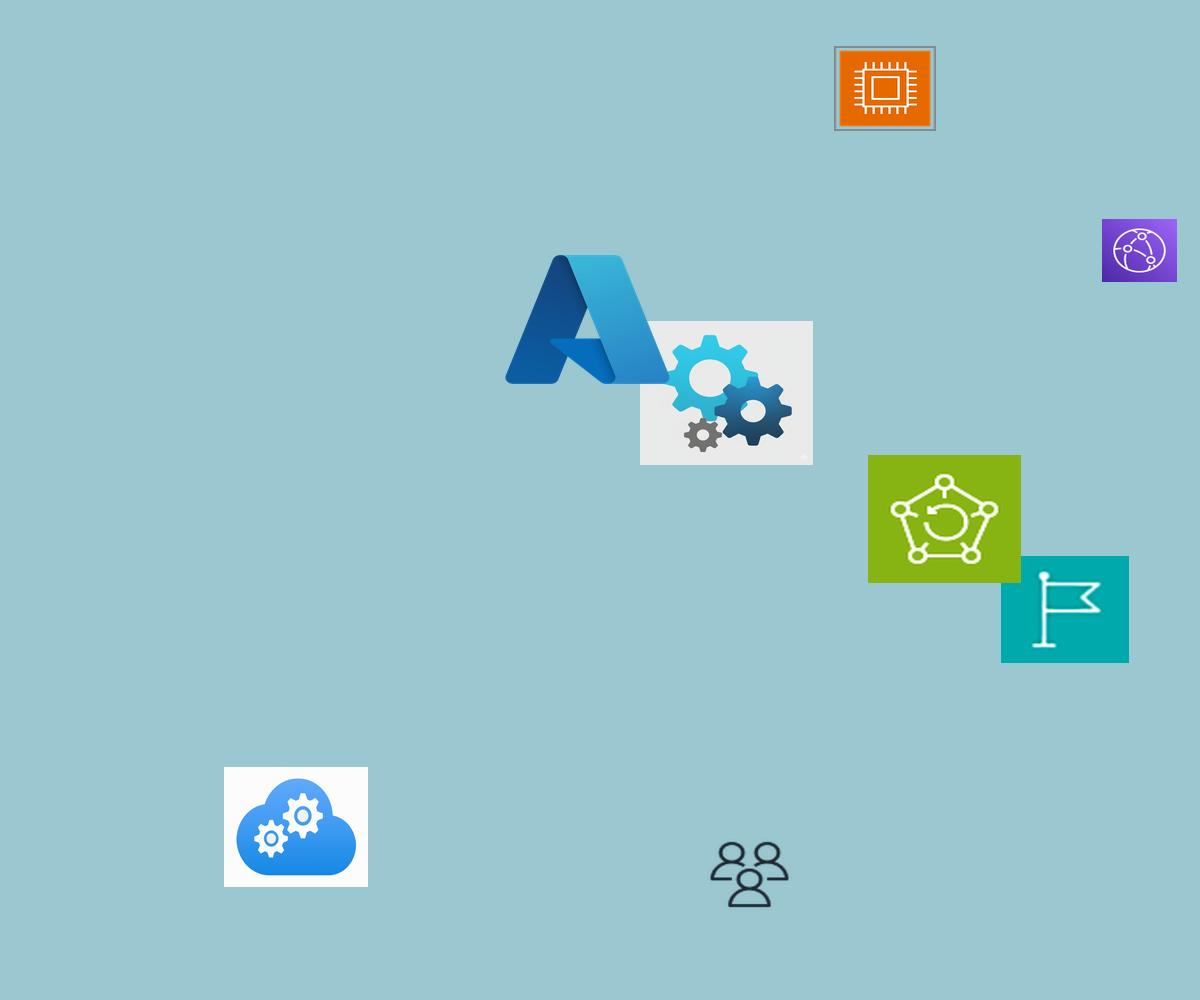AWS-Backup: (868, 455, 1021, 583)
AWS-Category_Compute: (834, 46, 936, 131)
AWS-CloudFront: (1102, 219, 1177, 282)
AWS-Region: (1001, 556, 1129, 663)
AWS-Res_Users: (707, 839, 792, 910)
Azure_api: (640, 321, 813, 465)
Azure_cloud_services: (224, 767, 368, 887)
Azure_services: (498, 245, 677, 394)
